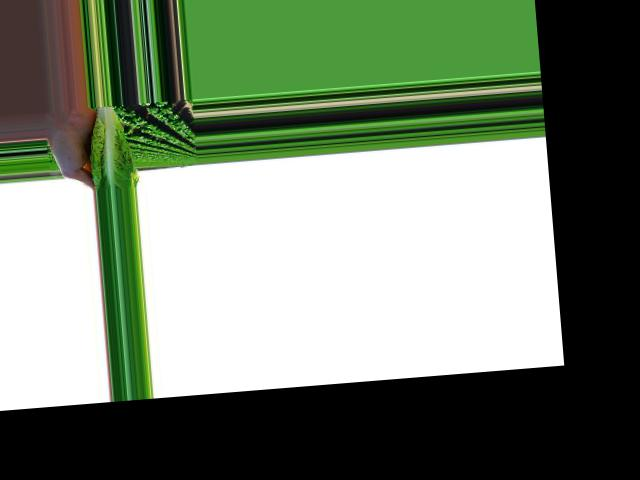lettuce: (86, 103, 136, 188)
